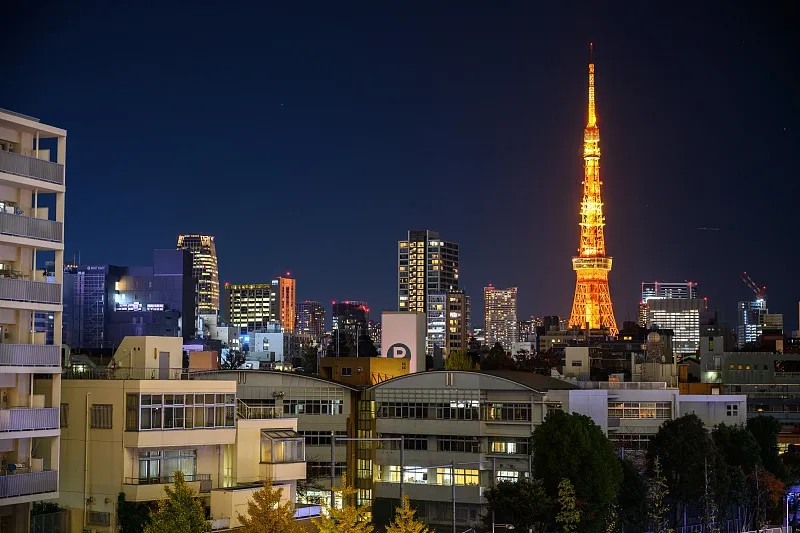Tokyo: (568, 38, 621, 337)
